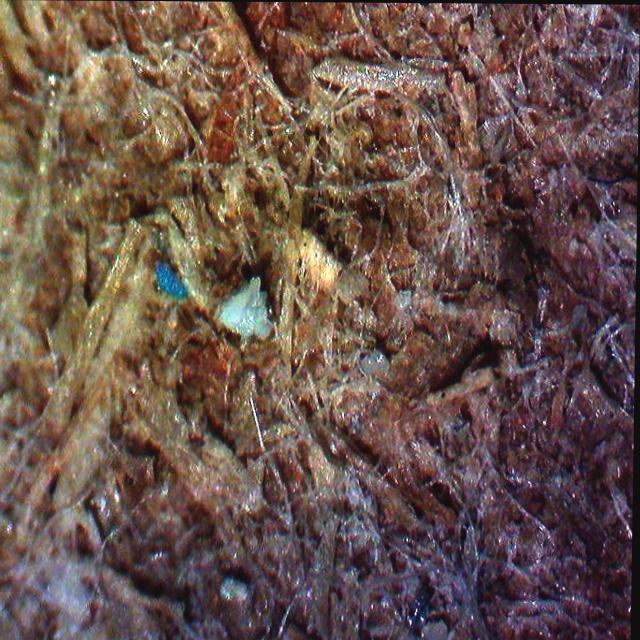microplastic: (223, 271, 272, 339), (153, 260, 192, 302)
